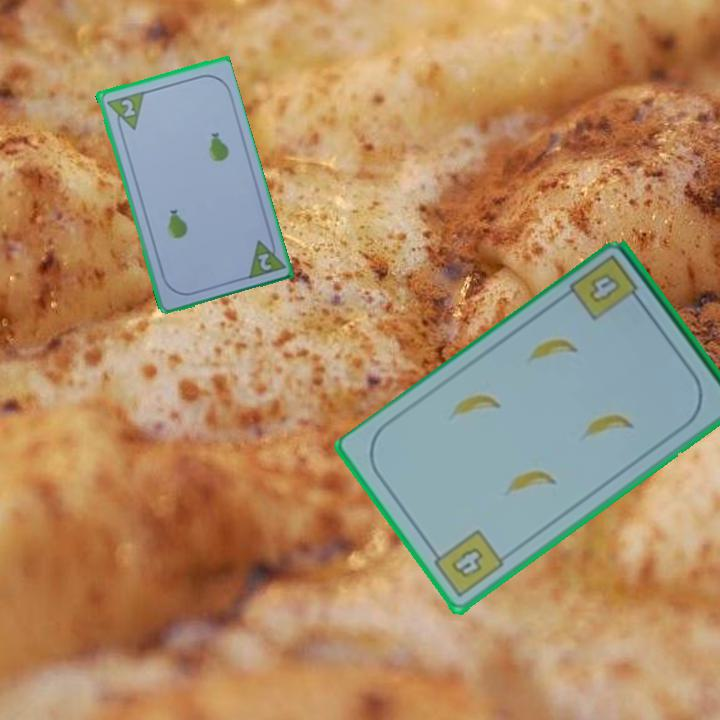2p: (102, 88, 146, 136), (254, 249, 274, 273)
4b: (427, 526, 508, 601), (566, 251, 647, 324)
